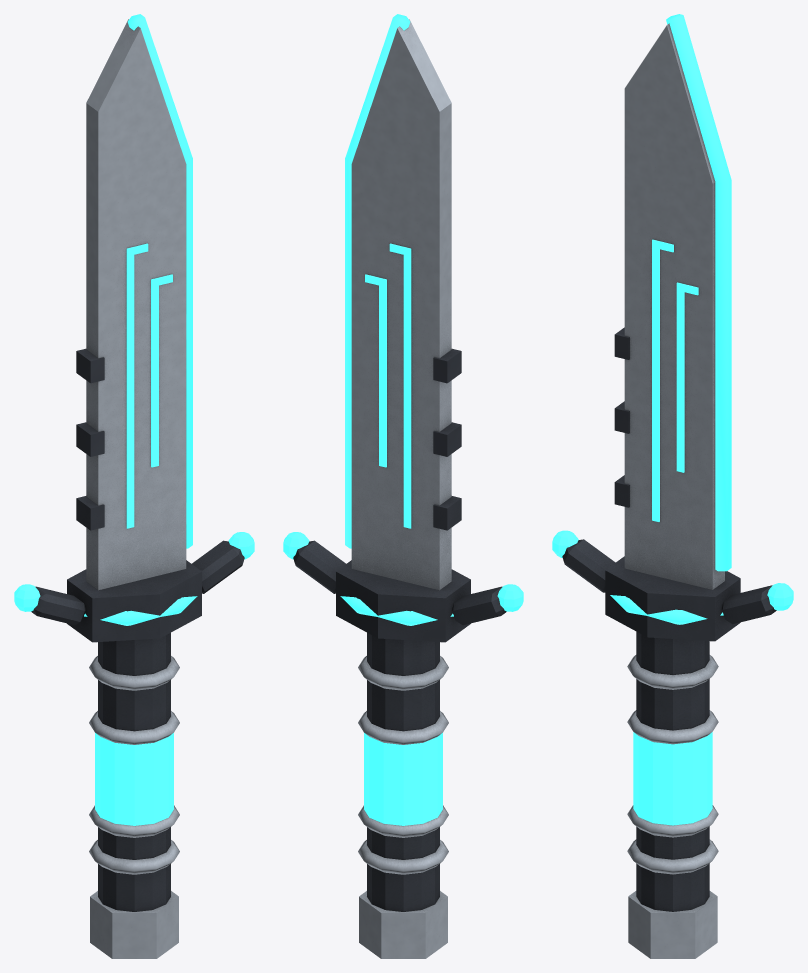
Rendered from 11_mechanical_dagger.fbx.
3 renders of one model, left to right at view 1: azimuth 30°, elevation 25°; view 2: azimuth 150°, elevation 25°; view 3: azimuth 330°, elevation 25°, orthographic.
Parts seen in each view (by area): view 1: Weapon; view 2: Weapon; view 3: Weapon.
Part boxes in pixels (x1,y1,x2,y2): Weapon: (14,14,254,958); Weapon: (283,14,523,958); Weapon: (552,14,793,958).
Size of the model in its own units: 15.07 by 56 by 5.68.
2 materials, 1 textured.
